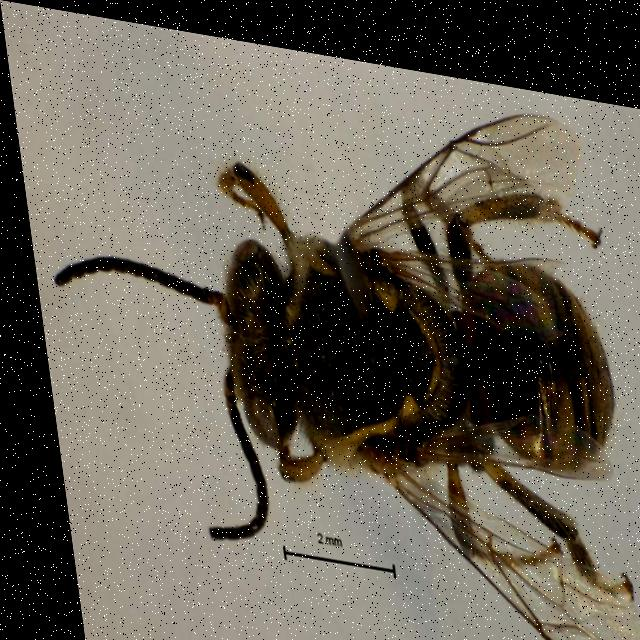Meliponula: (26, 78, 640, 640)
